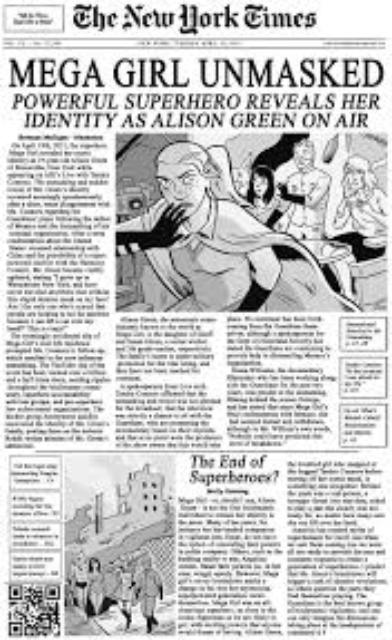cardboard paper: (2, 1, 391, 640)
